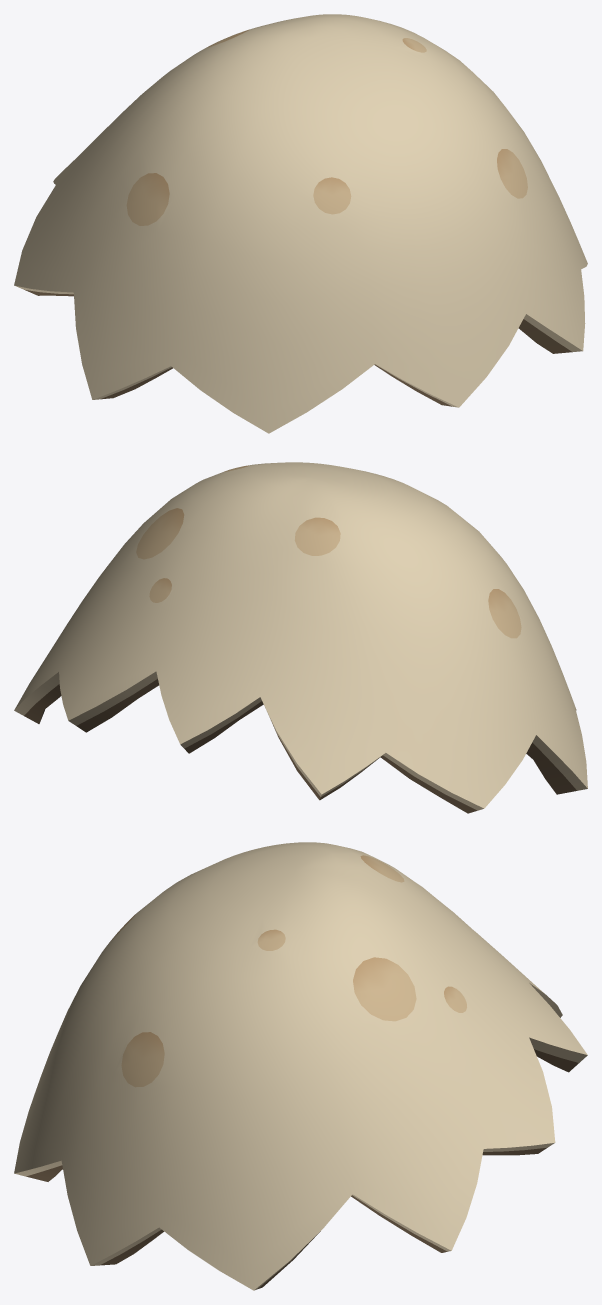
File: Cosmetic_Eggshell.glb
3 views of the same model, one above another, from view 1: azimuth 30°, elevation 25°; view 2: azimuth 150°, elevation 25°; view 3: azimuth 270°, elevation 25° (orthographic). The views are drawn at different scales.
Parts seen in each view (by area): view 1: Cosmetic_Eggshell; view 2: Cosmetic_Eggshell; view 3: Cosmetic_Eggshell.
Boxes of the visible parts, x1=… form: Cosmetic_Eggshell: x1=14, y1=14, x2=587, y2=433; Cosmetic_Eggshell: x1=14, y1=462, x2=587, y2=813; Cosmetic_Eggshell: x1=14, y1=842, x2=587, y2=1290.
Size of the model in its own units: 1.21 by 0.6749 by 1.12.
